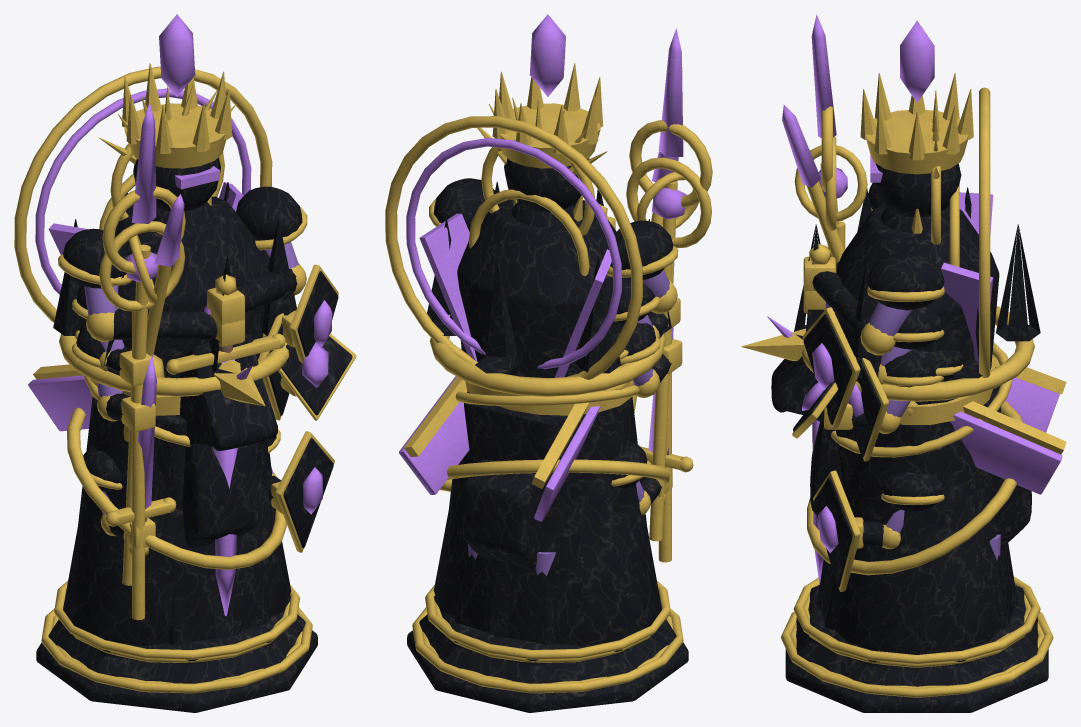
Rendered from astral_black.glb.
3 views of the same model, side by side, from view 1: azimuth 30°, elevation 25°; view 2: azimuth 150°, elevation 25°; view 3: azimuth 270°, elevation 25° (orthographic).
Visible parts, largest first — view 1: Mesh_Body_k, Plinth_k, Mesh_Body_n, Mesh_Head_k, Mesh_WeaponArm_k, Mesh_WeaponArm_b, Mesh_WeaponArm_r, Mesh_Body_r, Mesh_WeaponArm_q, Mesh_ShieldArm_k, Mesh_ShieldArm_p, Mesh_WeaponArm_p (+9 smaller); view 2: Mesh_Body_k, Plinth_k, Mesh_Body_n, Mesh_Head_k, Mesh_Body_r, Mesh_WeaponArm_r, Mesh_WeaponArm_q, Mesh_WeaponArm_b, Mesh_Body_q, Mesh_WeaponArm_k, Mesh_Head_q, Mesh_WeaponArm_p (+6 smaller); view 3: Mesh_Body_k, Plinth_k, Mesh_Body_n, Mesh_Head_k, Mesh_WeaponArm_r, Mesh_ShieldArm_k, Mesh_ShieldArm_p, Mesh_Body_r, Mesh_ShieldArm_q, Mesh_ShieldArm_b, Mesh_ShieldArm_n, Mesh_Body_q (+9 smaller).
Part boxes in pixels (x1,y1,x2,y2): Mesh_Body_k: (14,66,291,645); Plinth_k: (36,581,317,712); Mesh_Body_n: (28,333,277,547); Mesh_Head_k: (122,14,232,211); Mesh_WeaponArm_k: (58,228,285,615); Mesh_WeaponArm_b: (72,221,185,620); Mesh_WeaponArm_r: (53,182,296,406); Mesh_Body_r: (67,397,286,645); Mesh_WeaponArm_q: (72,102,185,585); Mesh_ShieldArm_k: (207,186,307,324); Mesh_ShieldArm_p: (267,429,334,552); Mesh_WeaponArm_p: (83,354,176,555); Mesh_Body_k: (385,116,661,645); Plinth_k: (407,581,688,712); Mesh_Body_n: (399,376,600,575); Mesh_Head_k: (492,14,602,211); Mesh_Body_r: (440,391,670,645); Mesh_WeaponArm_r: (427,181,671,396); Mesh_WeaponArm_q: (614,28,712,541); Mesh_WeaponArm_b: (620,157,711,562); Mesh_Body_q: (419,213,611,646); Mesh_WeaponArm_k: (599,204,678,313); Mesh_Head_q: (477,97,607,235); Mesh_WeaponArm_p: (611,327,693,514); Mesh_Body_k: (820,87,1013,654); Plinth_k: (781,576,1053,712); Mesh_Body_n: (767,313,1066,560); Mesh_Head_k: (860,20,973,217); Mesh_WeaponArm_r: (741,187,1040,401); Mesh_ShieldArm_k: (803,252,944,355); Mesh_ShieldArm_p: (813,470,944,591); Mesh_Body_r: (807,367,1022,629); Mesh_ShieldArm_q: (802,307,944,429); Mesh_ShieldArm_b: (792,349,943,438); Mesh_ShieldArm_n: (848,350,963,461); Mesh_Body_q: (816,192,1017,641).
Size of the model in its own units: 0.796 by 1.88 by 0.8695.
5 materials, 3 textured.
